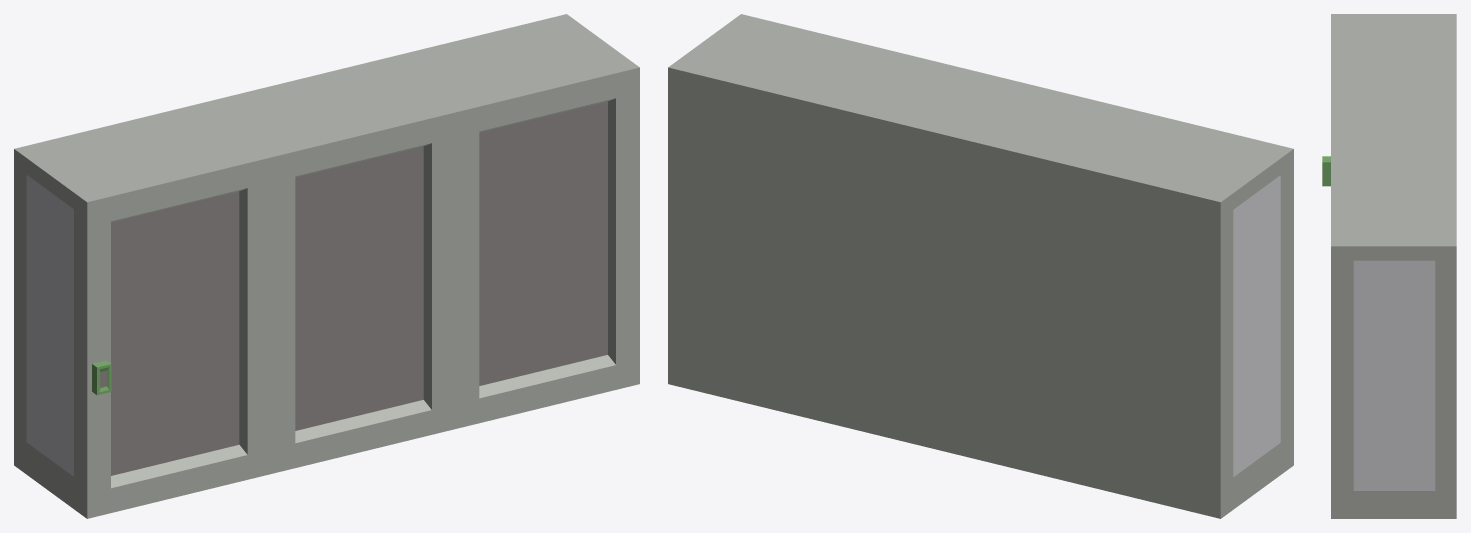
Rendered from Door.gltf.
3 renders of one model, left to right at view 1: azimuth 30°, elevation 25°; view 2: azimuth 150°, elevation 25°; view 3: azimuth 270°, elevation 25°, orthographic. The views are drawn at different scales.
Visible parts, largest first — view 1: SM_Transporter_01; view 2: SM_Transporter_01; view 3: SM_Transporter_01.
Part boxes in pixels (x1,y1,x2,y2): SM_Transporter_01: (14, 14, 639, 518); SM_Transporter_01: (668, 14, 1293, 518); SM_Transporter_01: (1322, 14, 1456, 518).
Bounding box in the file's own units: 7 × 3.83 × 1.71.
Materials: 1 (1 with a texture image).
